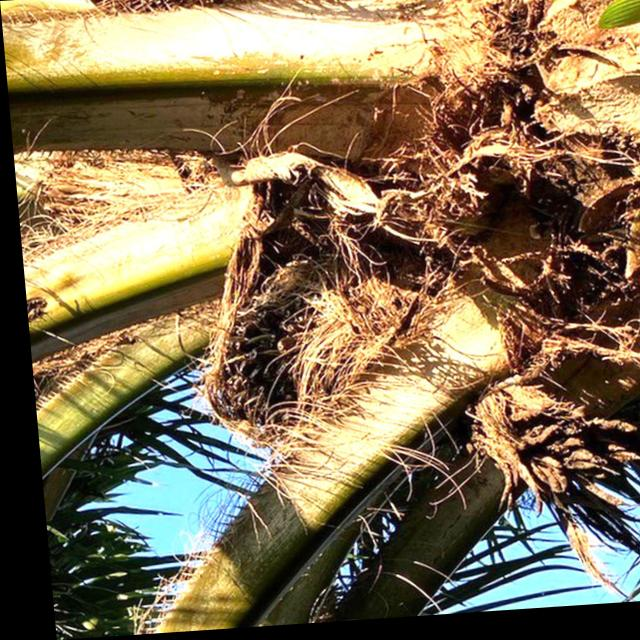almost: (177, 217, 408, 448)
